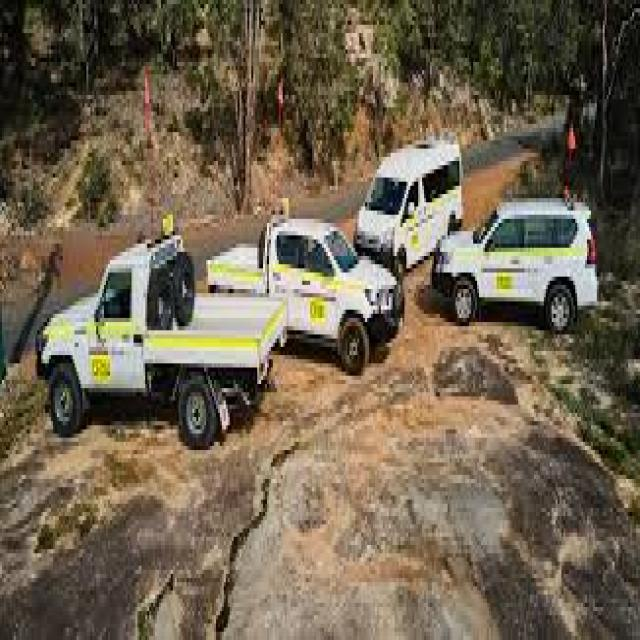light_vehicle: (47, 207, 295, 454), (206, 182, 418, 380), (436, 161, 610, 347), (347, 112, 481, 293)
